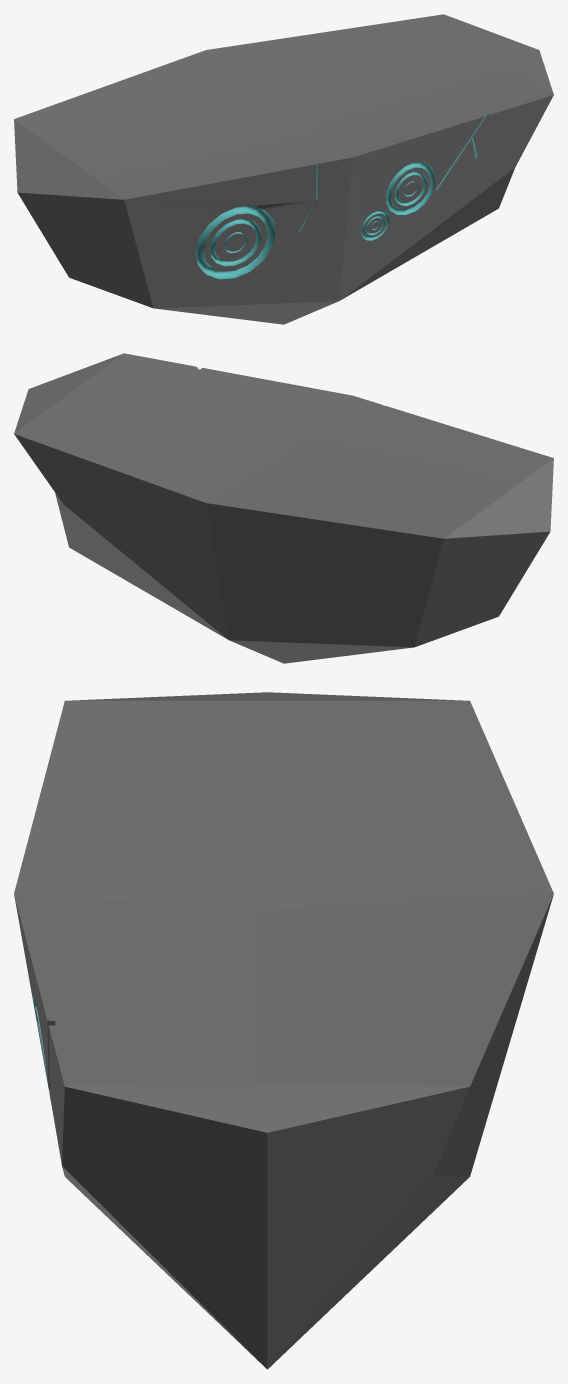
The model's file is Platform1.fbx.
The picture shows the model from 3 angles, top to bottom: view 1: azimuth 30°, elevation 25°; view 2: azimuth 150°, elevation 25°; view 3: azimuth 270°, elevation 25°; orthographic projection. The views are drawn at different scales.
Visible parts, largest first — view 1: Platform; view 2: Platform; view 3: Platform.
Part boxes in pixels (x1=…): Platform: x1=14, y1=14, x2=553, y2=324; Platform: x1=14, y1=353, x2=553, y2=663; Platform: x1=14, y1=692, x2=553, y2=1369.
Size of the model in its own units: 10.5 by 4.19 by 5.12.
